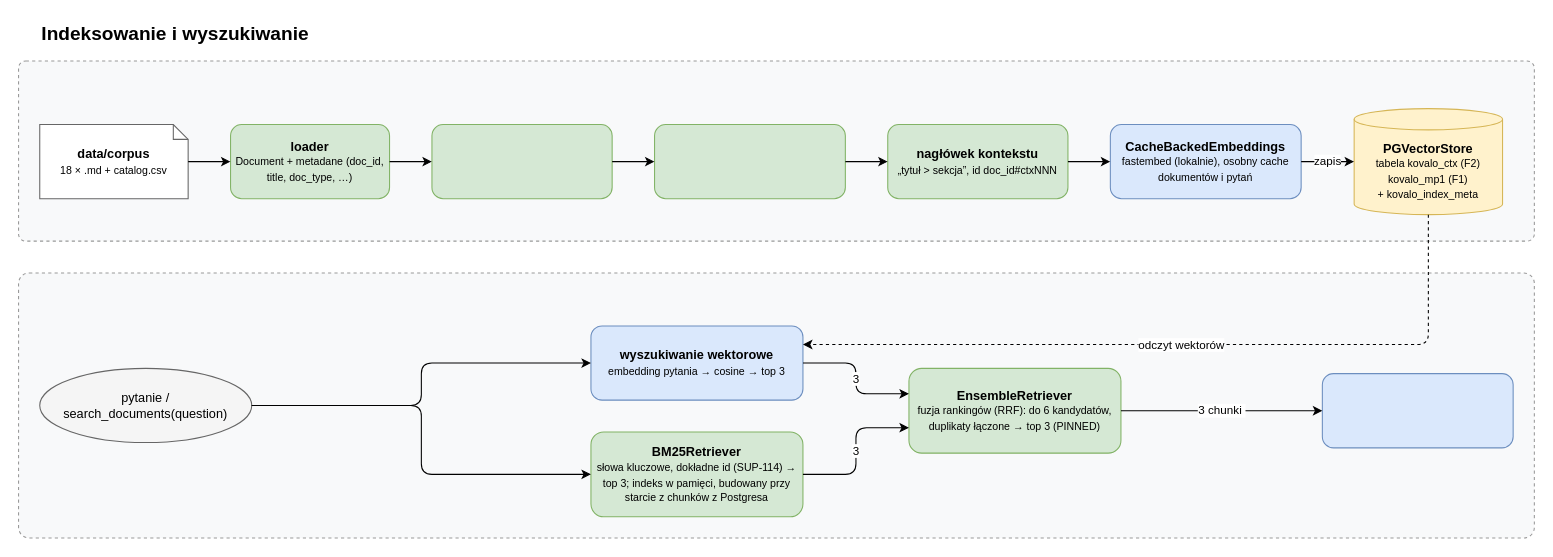
The diagram is 1553 pixels wide and 557 high, and some of its shapes have lost their labels. The shapes that lost their labels are listed below. From the top down, each one's box as (x1, y1, x2, y2) in pixels, then its label:
(431, 123, 612, 199): MarkdownHeaderTextSplitter sekcje dokumentu
(653, 123, 845, 199): RecursiveCharacterTextSplitter 800 / 120 (PINNED)
(17, 60, 1534, 241): Przepływ 1: indeksowanie – jednorazowo, make ingest (i po zmianie dokumentów)
(17, 272, 1534, 538): Przepływ 2: wyszukiwanie – przy każdym zapytaniu, w mcp-server
(1321, 373, 1513, 448): RAG / agent odpowiedź ze schematem i cytowaniami
